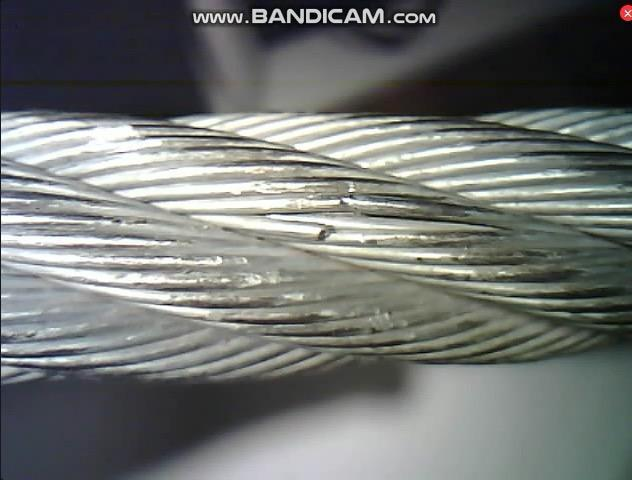break: (304, 190, 377, 241)
